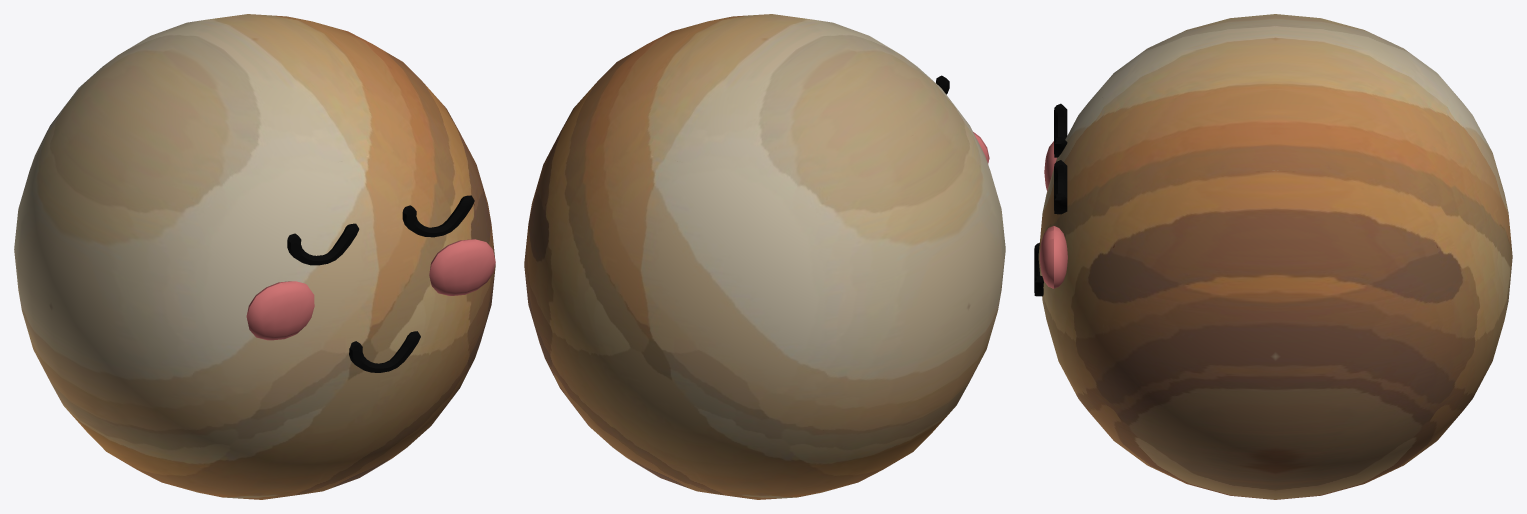
File: Marte.fbx
3 views of the same model, side by side, from view 1: azimuth 30°, elevation 25°; view 2: azimuth 150°, elevation 25°; view 3: azimuth 270°, elevation 25° (orthographic).
Visible parts, largest first — view 1: Mesh; view 2: Mesh; view 3: Mesh.
Part boxes in pixels (bbox=[...]): Mesh: bbox=[14, 14, 495, 499]; Mesh: bbox=[524, 14, 1005, 499]; Mesh: bbox=[1034, 14, 1512, 499].
Bounding box in the file's own units: 276 × 282 × 280.
